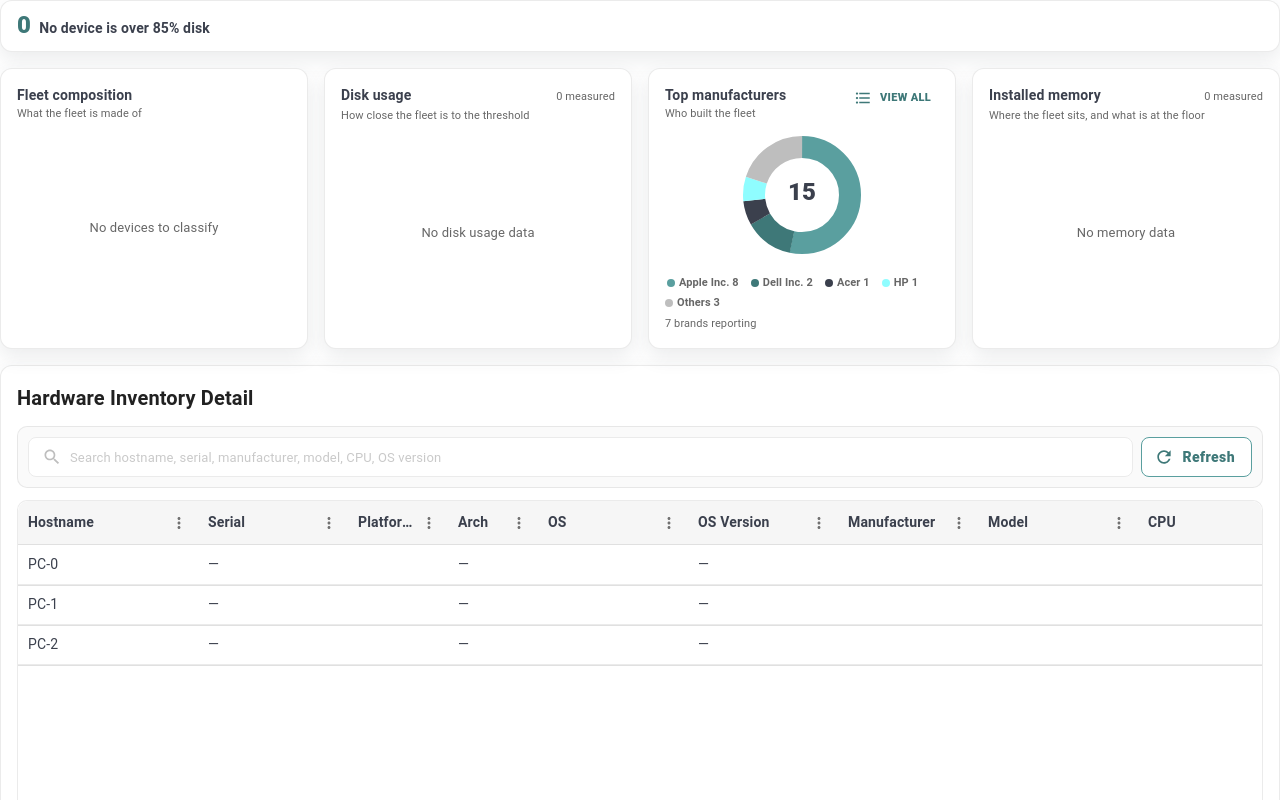
it: HardwareInventory — chip del filtro › ⭐ una porción de «Top manufacturers» filtra la tabla por esa marca (y se quita igual)
Click the button with aria-label "Apple Inc.: 8 — filter the table" at (703, 283), box [665,274,741,291]
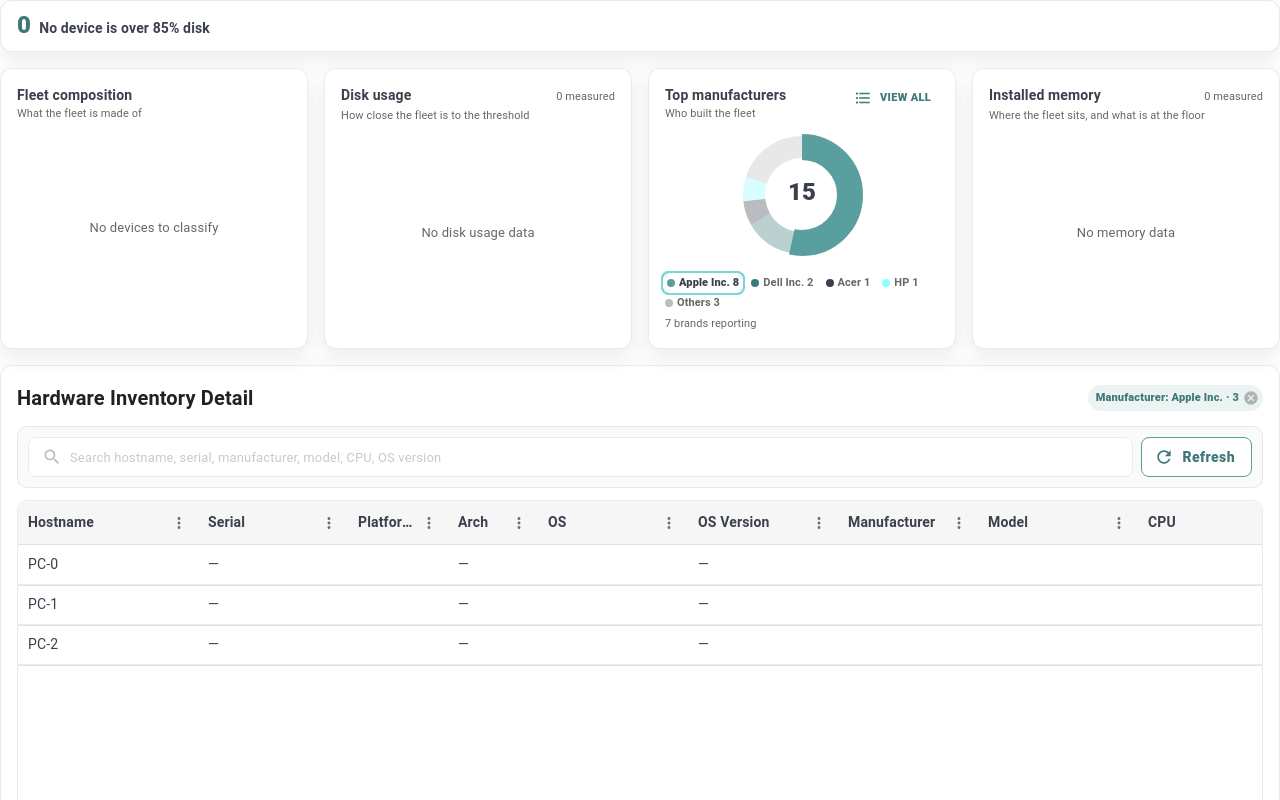
Now the text "Manufacturer: Apple Inc. · 3" is shown, box [1088,390,1247,406]
Click the button with aria-label "Apple Inc.: 8 — filter the table" at (703, 283), box [665,274,741,291]
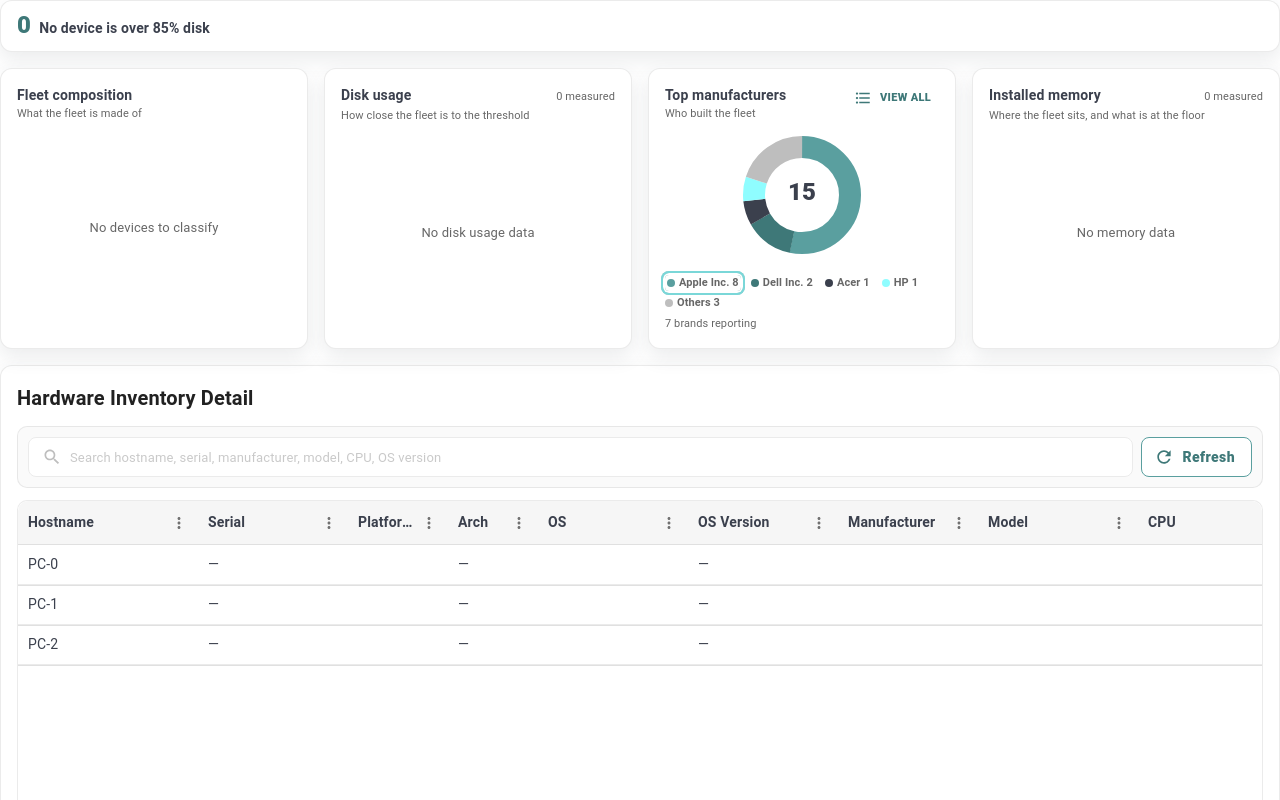
Now the button "Manufacturer: Apple" is gone
